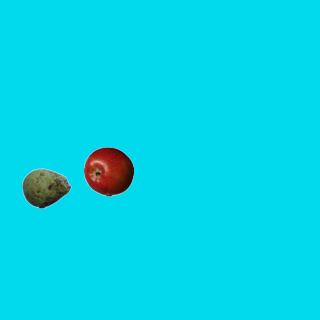Apple Braeburn: (83, 146, 133, 196)
Pear Stone: (21, 163, 71, 213)
